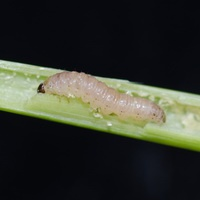insect: (37, 71, 165, 125)
